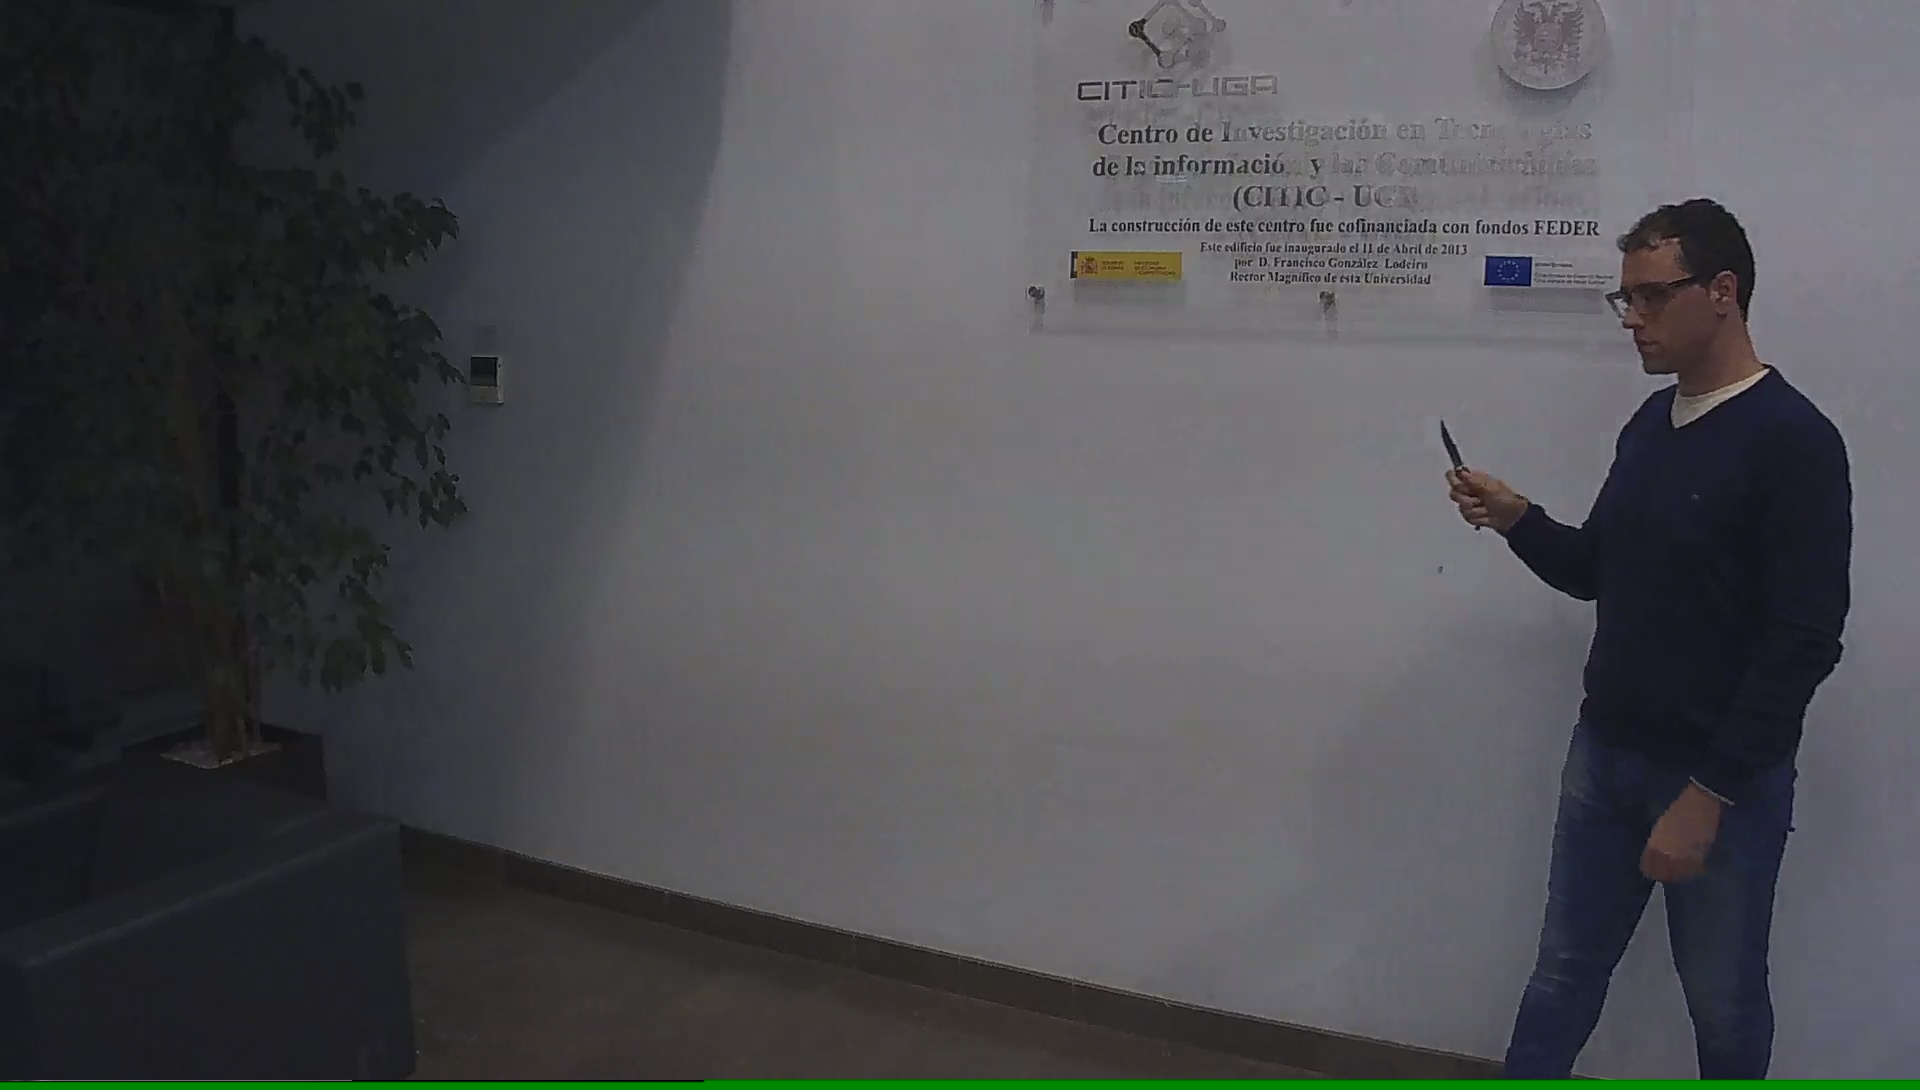knife: (1428, 405, 1489, 535)
